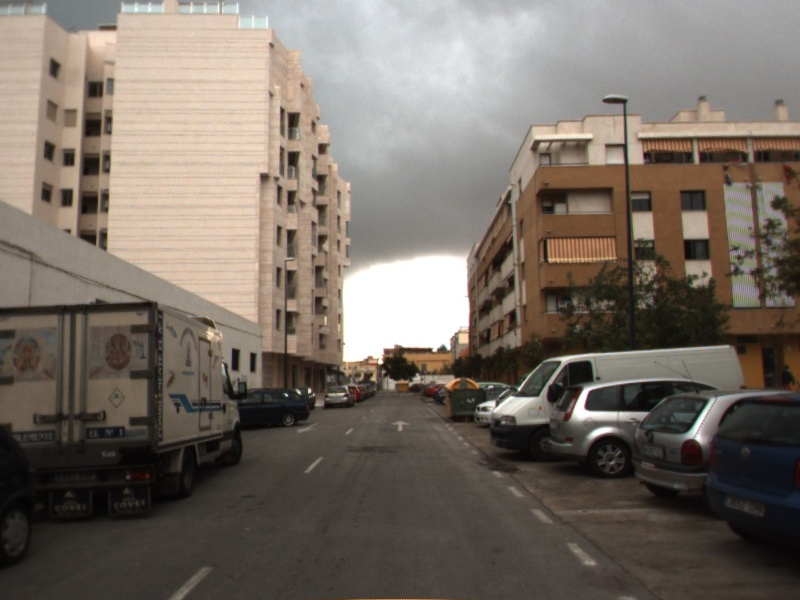STRAIGHT: (388, 418, 413, 433)
